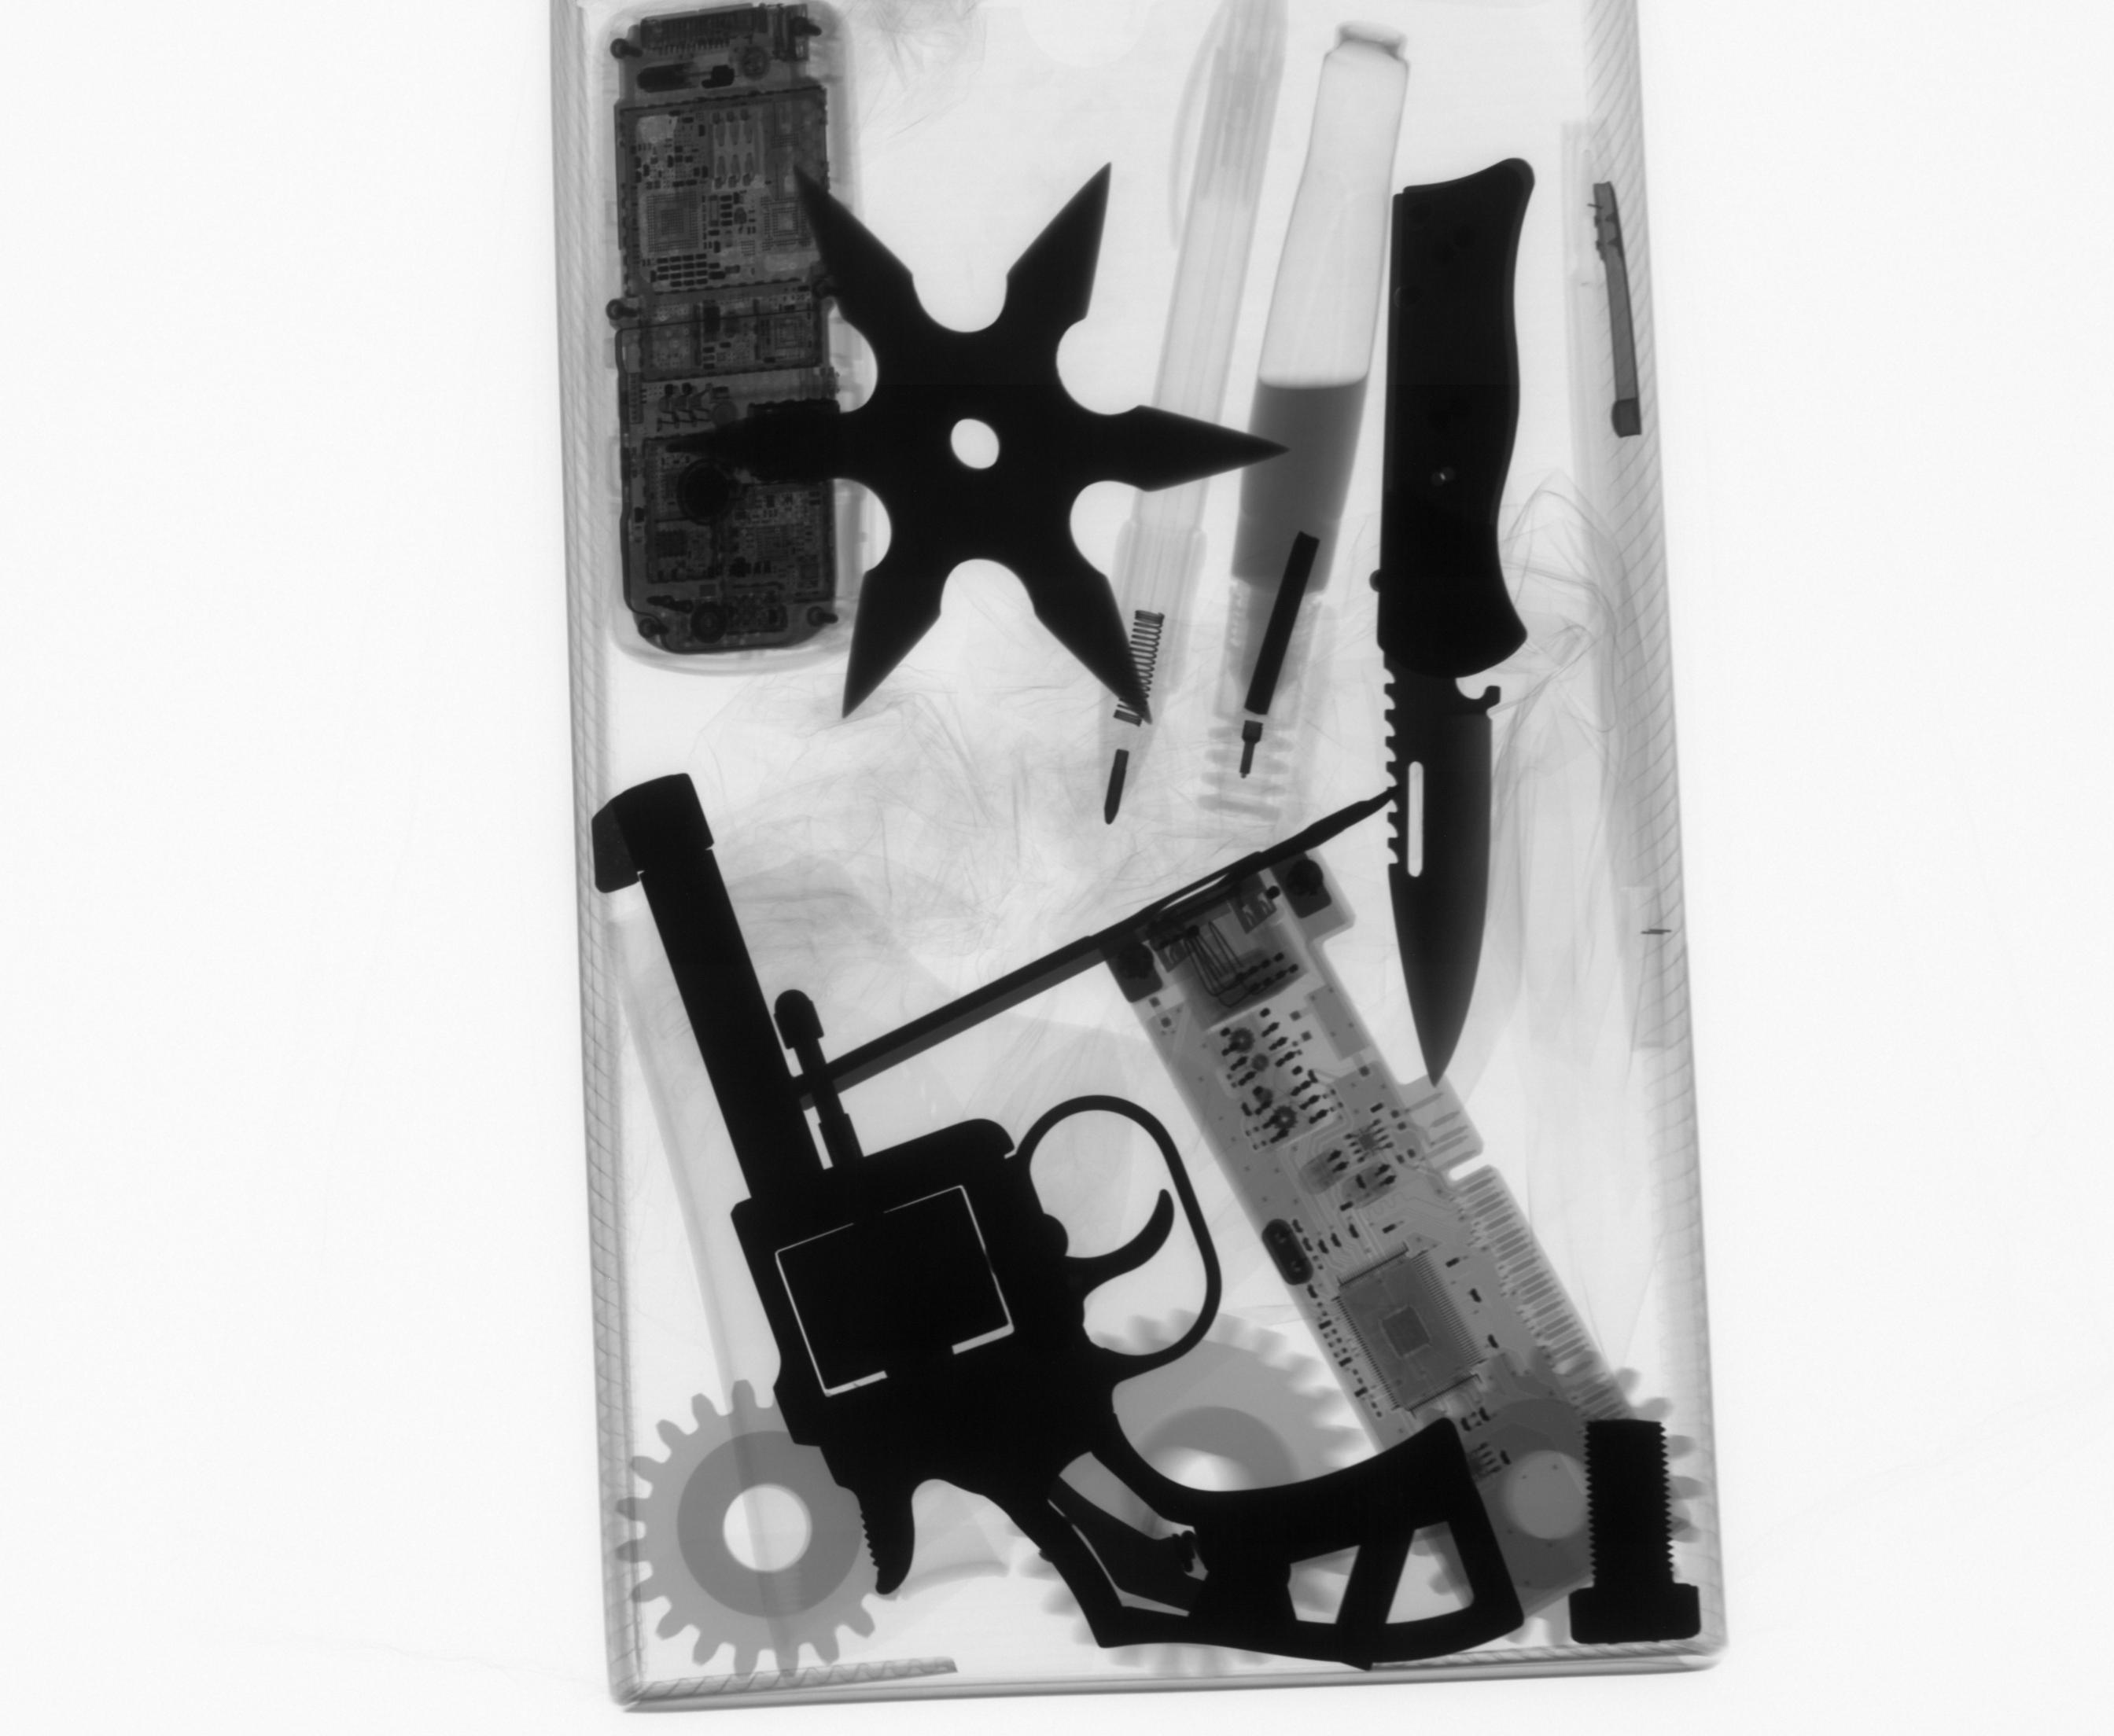Handgun: (583, 764, 1540, 1676)
Knife: (1363, 147, 1551, 1097)
Shuriken: (661, 156, 1296, 731)
